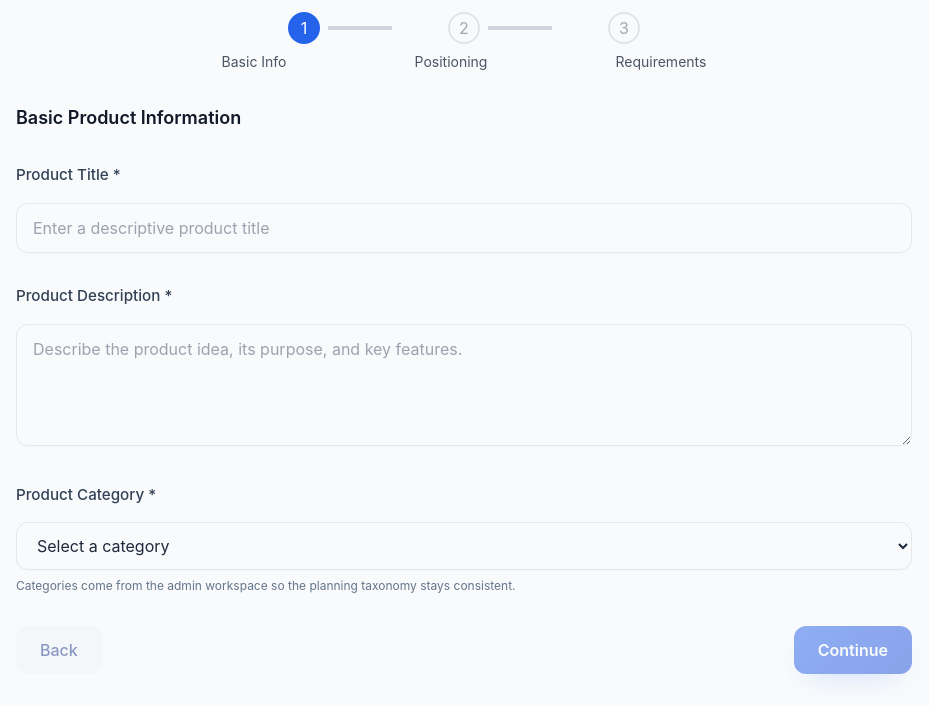
ProductIdeaForm › advances to the next step without requiring future-step fields
Type "Portable Press" into the field labelled "Product Title *" at (464, 228), box [16,203,912,253]
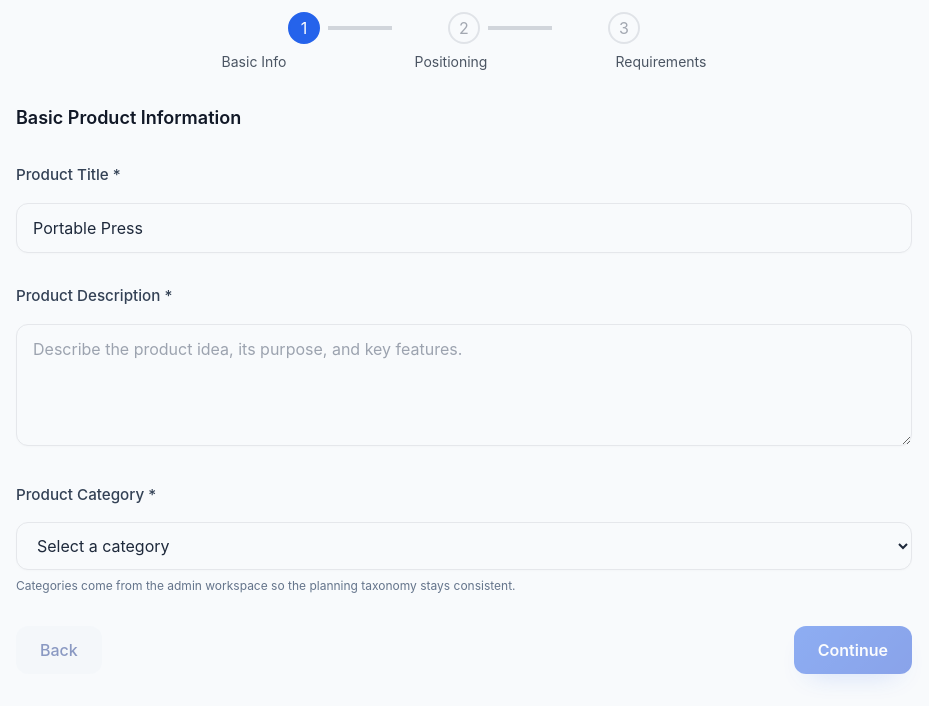
Type "Compact benchtop press for short-run assembly work." into the text box labelled "Product Description *" at (464, 385), box [16,324,912,446]
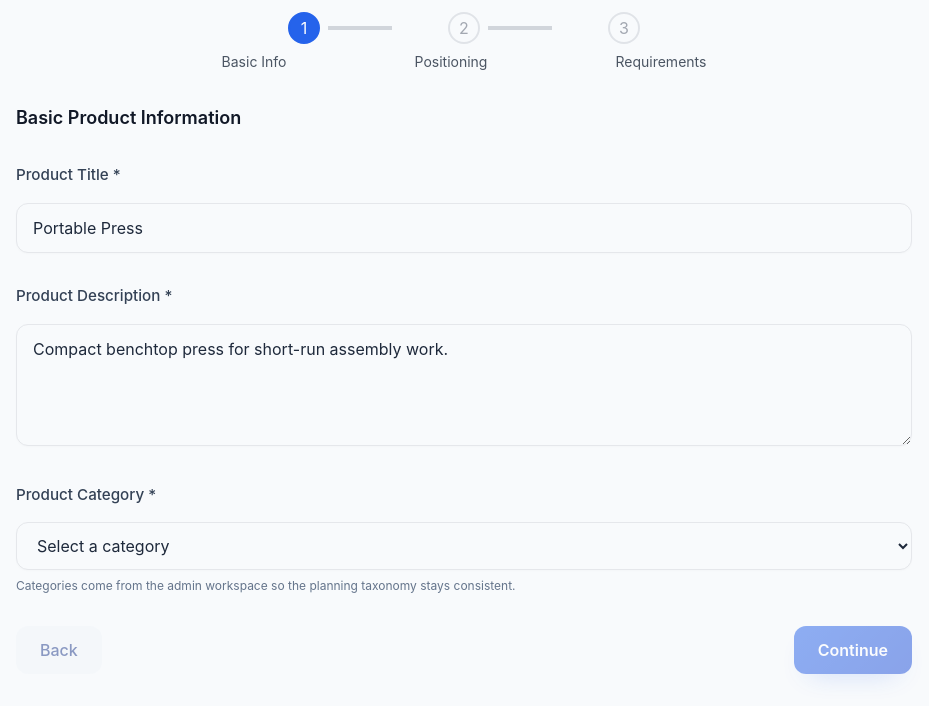
Select "Industrial Equipment" in the dropdown labelled "Product Category *" at (464, 546), box [16,522,912,570]
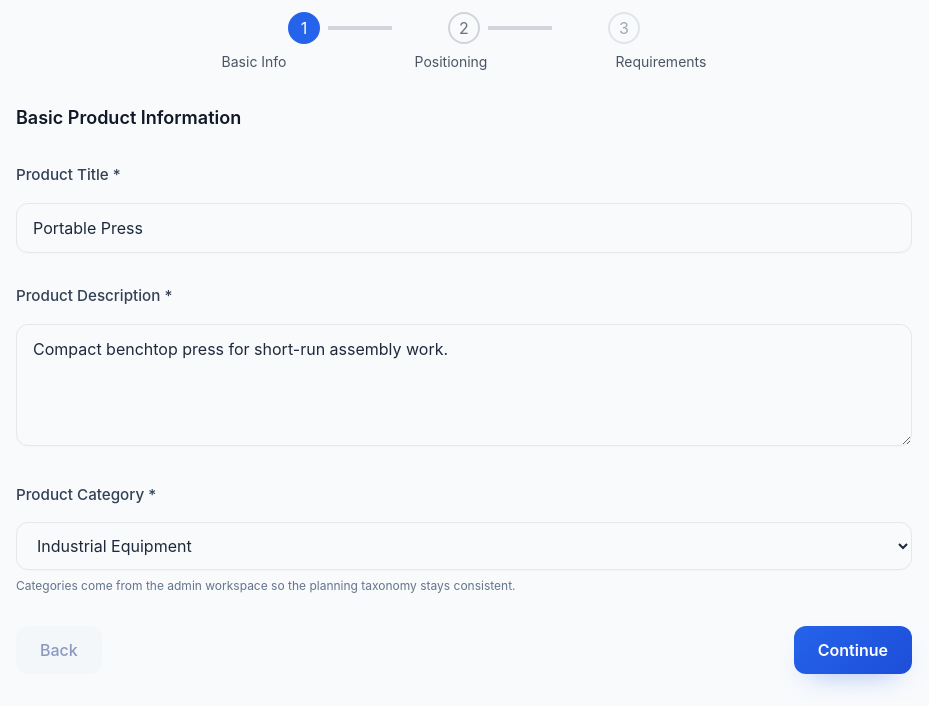
Click the button "Continue" at (853, 650), box [794,626,912,674]
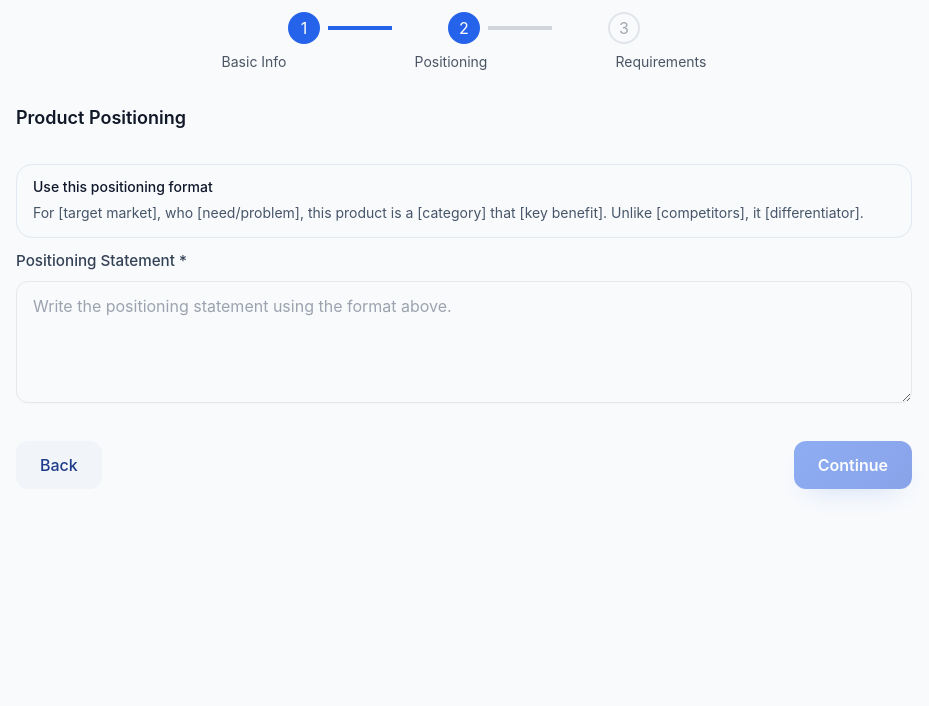
Expected: the heading "Product Positioning" is shown, [16,107,186,128]
